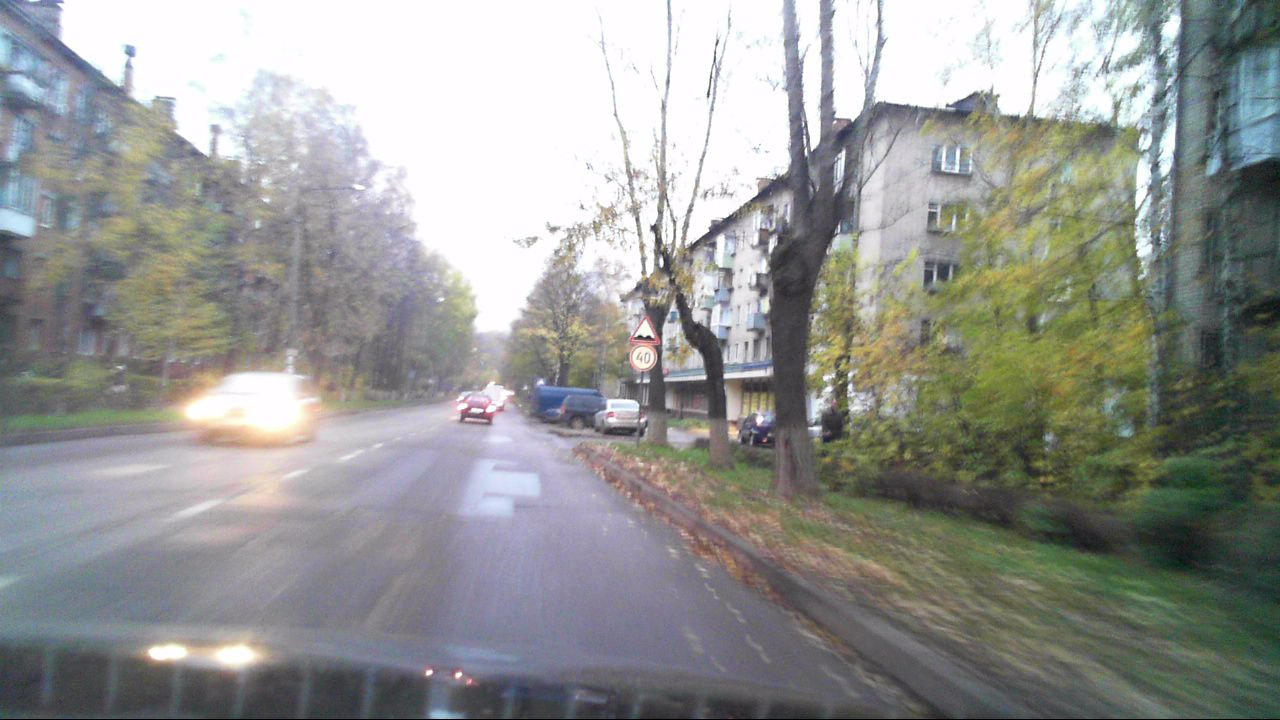speed_warning_40: (630, 344, 657, 371)
